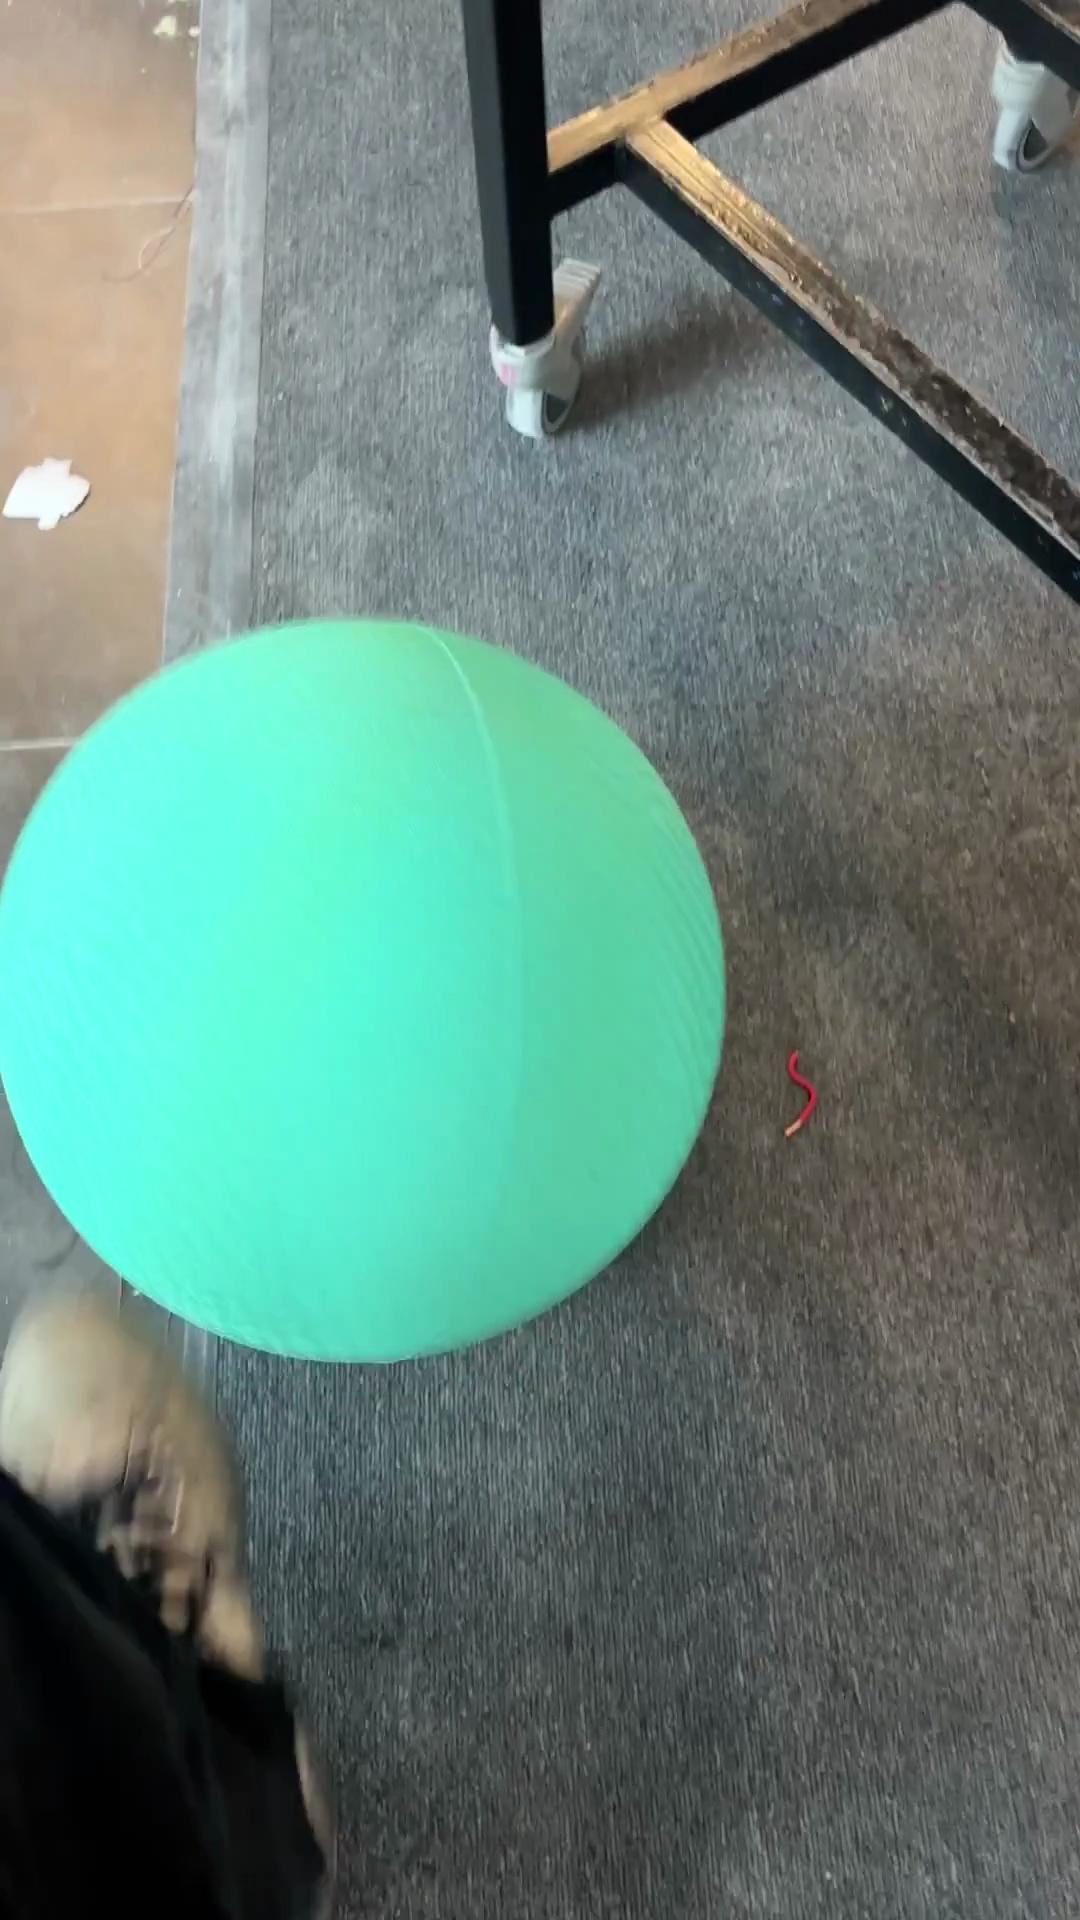ALGAE: (1, 615, 729, 1367)
